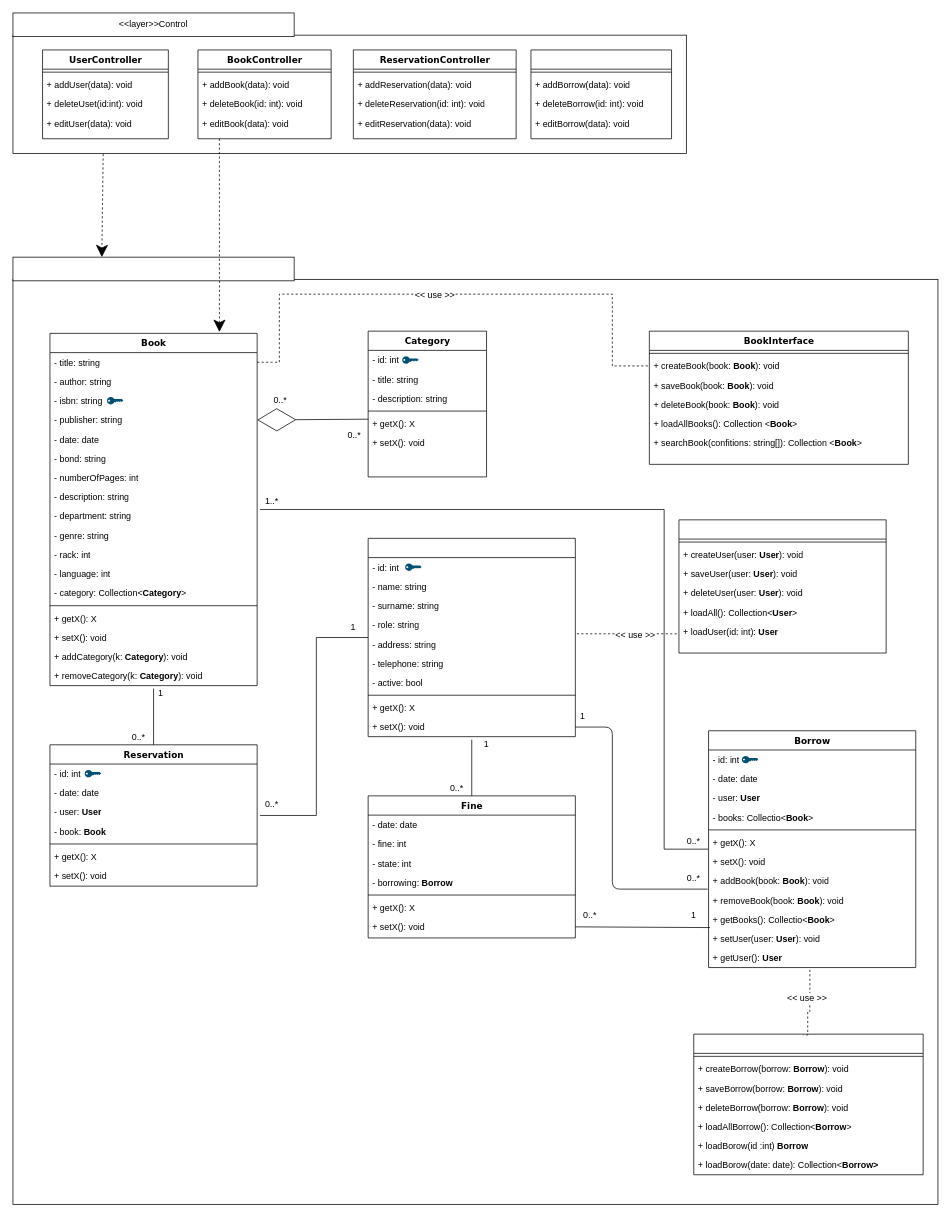
This 951x1217 diagram has some shape labels left out. The shapes that lost their labels are listed below. From the top down, each one's box as (x1, y1, x2, y2) in pixels, then its label:
(530, 49, 672, 139): BorrowController
(12, 256, 294, 281): <<layer>>Domain
(678, 519, 886, 653): UserInterface
(367, 538, 575, 737): User
(693, 1033, 923, 1175): BorrowInterface
